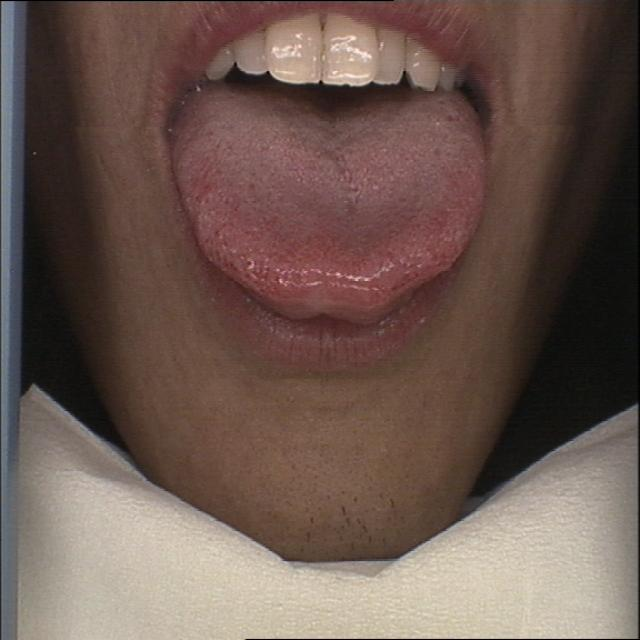tongue: (165, 84, 497, 316)
